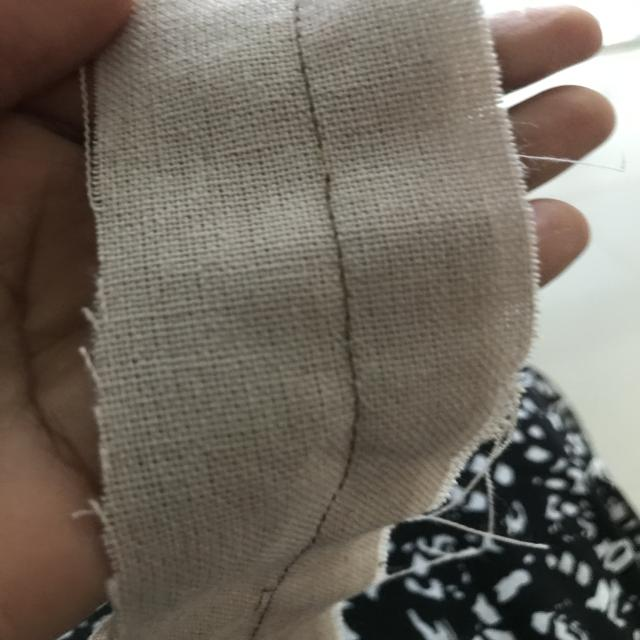broken: (294, 127, 358, 184)
